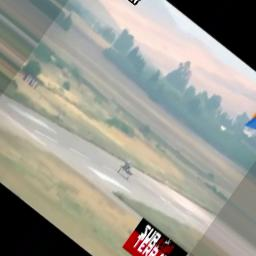Airplane: (117, 158, 134, 179)
